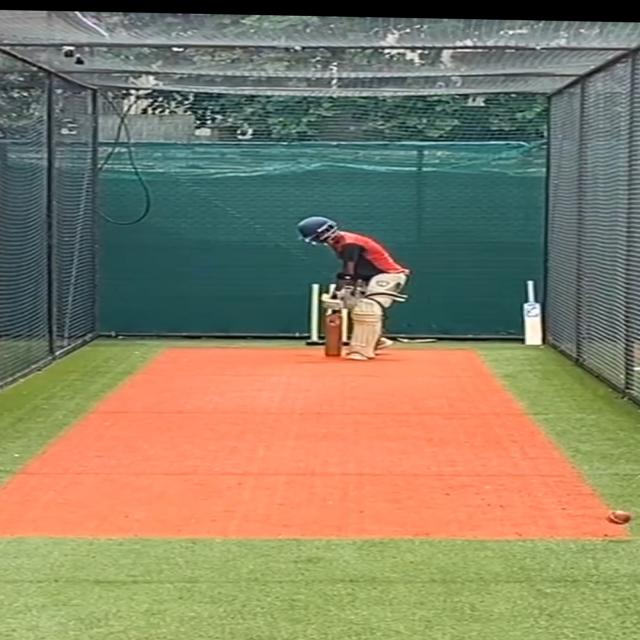ball: (603, 508, 632, 526)
stump: (308, 280, 354, 347)
